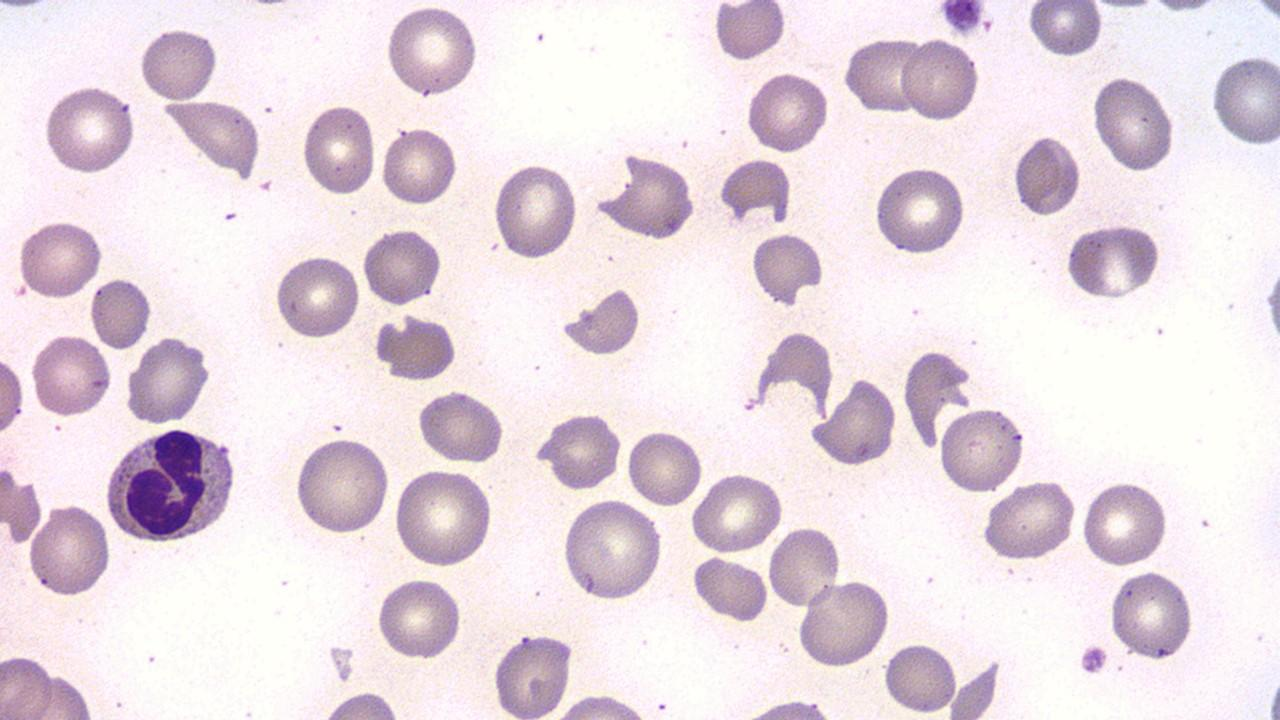Platelets: (558, 287, 641, 357), (708, 0, 788, 64), (938, 1, 985, 34), (1075, 640, 1109, 680), (532, 30, 546, 43)
RBC: (0, 0, 451, 424), (0, 215, 225, 591), (560, 496, 664, 604), (392, 466, 494, 570), (292, 432, 391, 538), (594, 150, 698, 242), (384, 3, 480, 100), (41, 80, 139, 175), (492, 159, 580, 264), (872, 162, 968, 257), (26, 499, 113, 602), (160, 98, 265, 183), (1090, 73, 1178, 174), (796, 578, 892, 670), (979, 478, 1079, 564), (1107, 566, 1195, 663), (688, 469, 786, 556), (1079, 477, 1169, 570), (272, 251, 362, 343), (938, 402, 1026, 496), (810, 376, 898, 469), (374, 574, 464, 664), (1063, 221, 1163, 301), (900, 347, 976, 452), (124, 335, 212, 425), (16, 215, 105, 302), (29, 330, 113, 421), (301, 101, 378, 200), (490, 630, 576, 718), (745, 68, 831, 156), (535, 410, 624, 492), (899, 34, 980, 124), (415, 386, 507, 465), (1209, 48, 1279, 150), (361, 224, 443, 309), (842, 34, 924, 116), (380, 124, 460, 208), (767, 522, 843, 610), (624, 425, 704, 508), (137, 25, 220, 104), (373, 311, 461, 382), (1008, 133, 1081, 218), (559, 285, 642, 358), (750, 230, 825, 309), (882, 640, 958, 716), (688, 554, 768, 623), (718, 156, 792, 230), (89, 272, 154, 352), (711, 0, 788, 64), (1026, 1, 1104, 60), (0, 651, 56, 716), (318, 688, 404, 718), (0, 348, 25, 444)
WBC: (715, 46, 1277, 720), (0, 0, 559, 362), (613, 0, 1249, 311), (101, 422, 242, 548)
